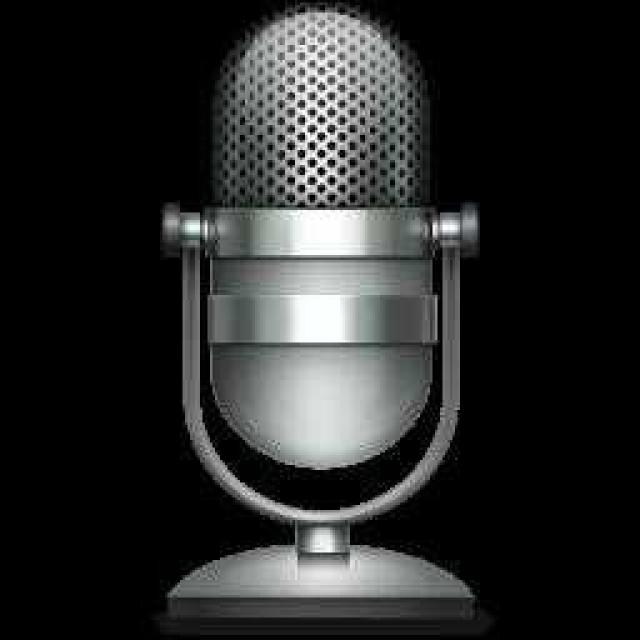microphone: (130, 0, 510, 602)
